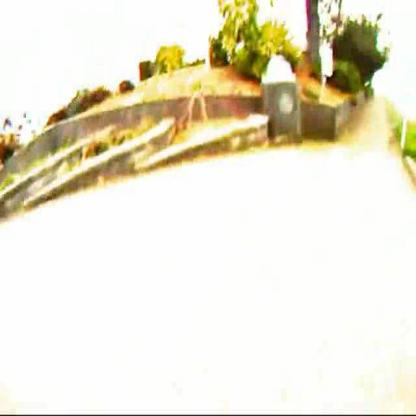other: (221, 161, 404, 292), (177, 60, 253, 136)
